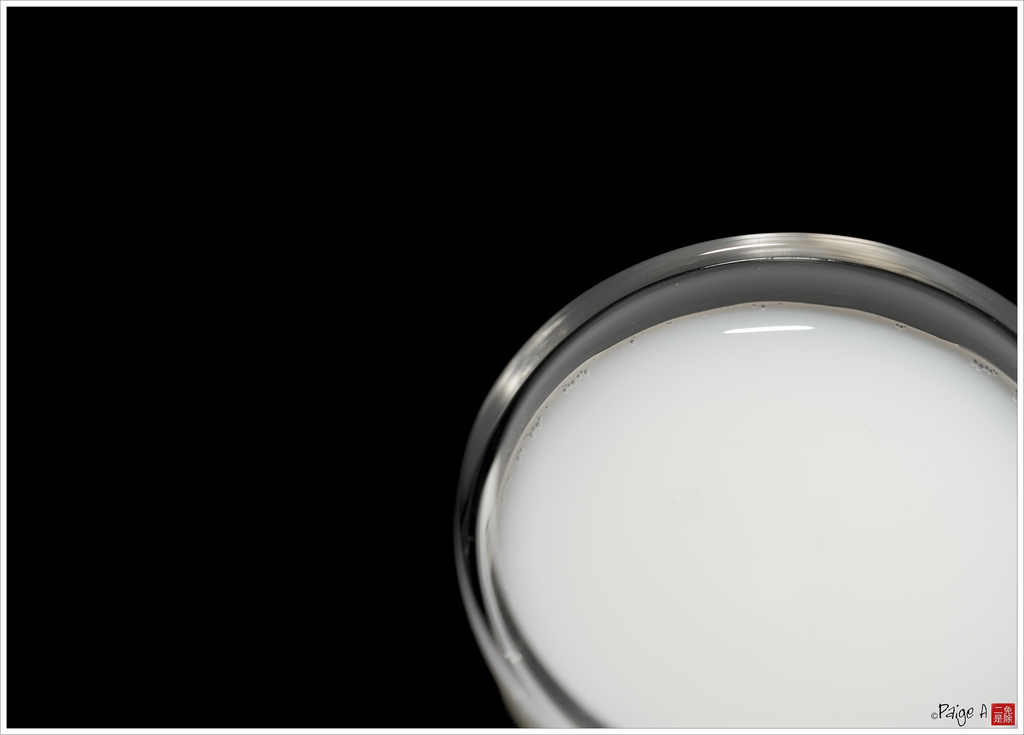glass of milk: (449, 180, 1010, 735)
